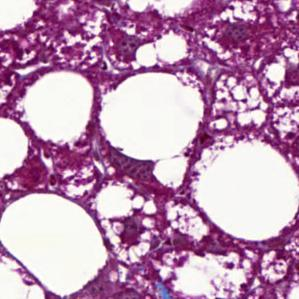steatosis: (1, 195, 112, 293), (197, 137, 299, 239), (100, 72, 208, 159), (25, 72, 93, 145)
